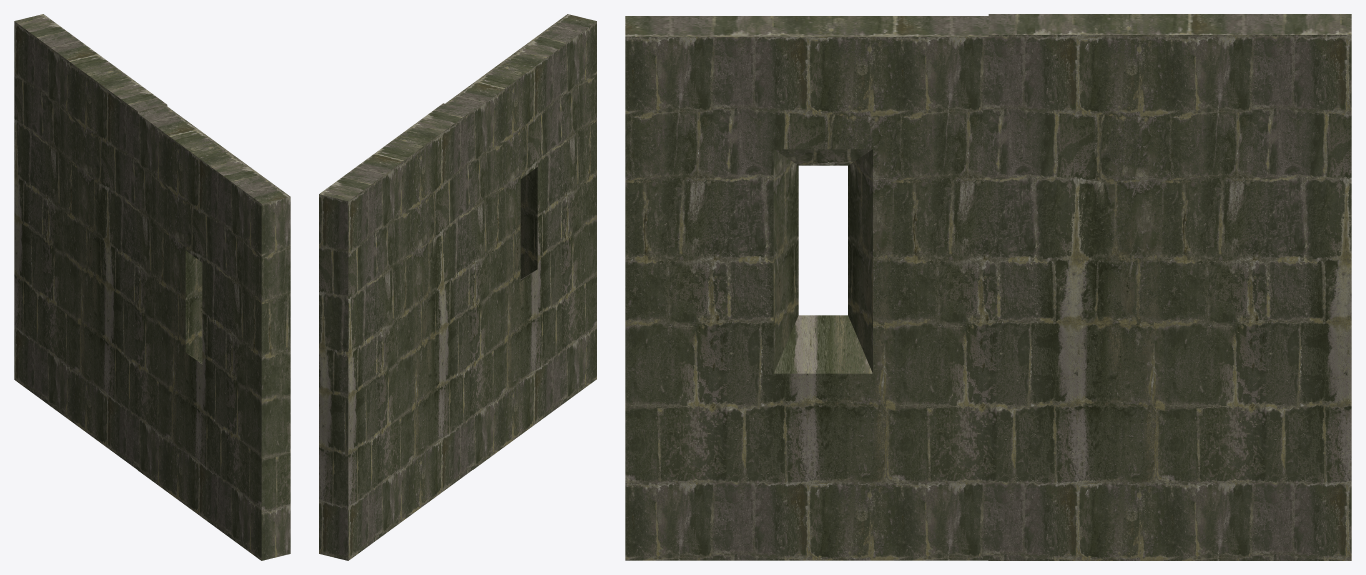
File: Wall_Arrowslit_L.fbx
3 views of the same model, side by side, from view 1: azimuth 30°, elevation 25°; view 2: azimuth 150°, elevation 25°; view 3: azimuth 270°, elevation 25° (orthographic). The views are drawn at different scales.
Parts seen in each view (by area): view 1: Arrowslit_L; view 2: Arrowslit_L; view 3: Arrowslit_L.
Boxes of the visible parts, box(x1,y1,x2,y2) form: Arrowslit_L: box(14, 14, 290, 560); Arrowslit_L: box(319, 14, 596, 560); Arrowslit_L: box(625, 14, 1351, 560).
Bounding box in the file's own units: 51.5 × 598 × 748.
